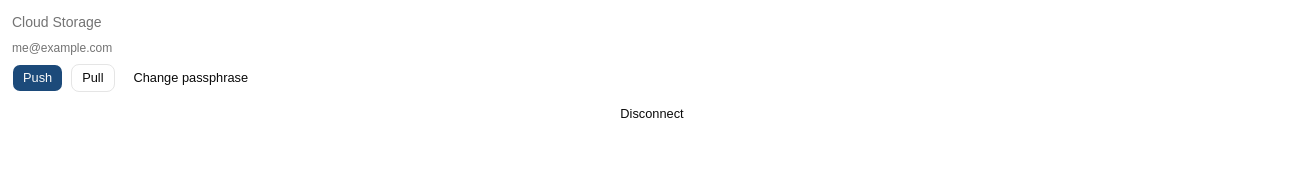
Test: CloudSyncPanel — connected with a passphrase › 'Change passphrase' reveals the passphrase field again
This screenshot has width=1304, height=172.
Step 1. Click the button "Change passphrase" → x=191, y=78, box [122,64,259,92]
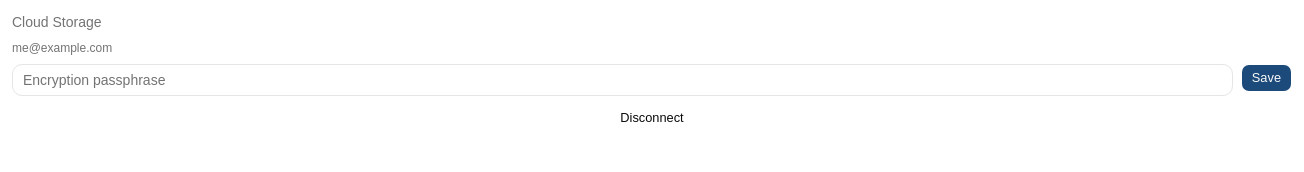
Result: the password field with placeholder "Encryption passphrase" is shown at [12,64,1233,96]
